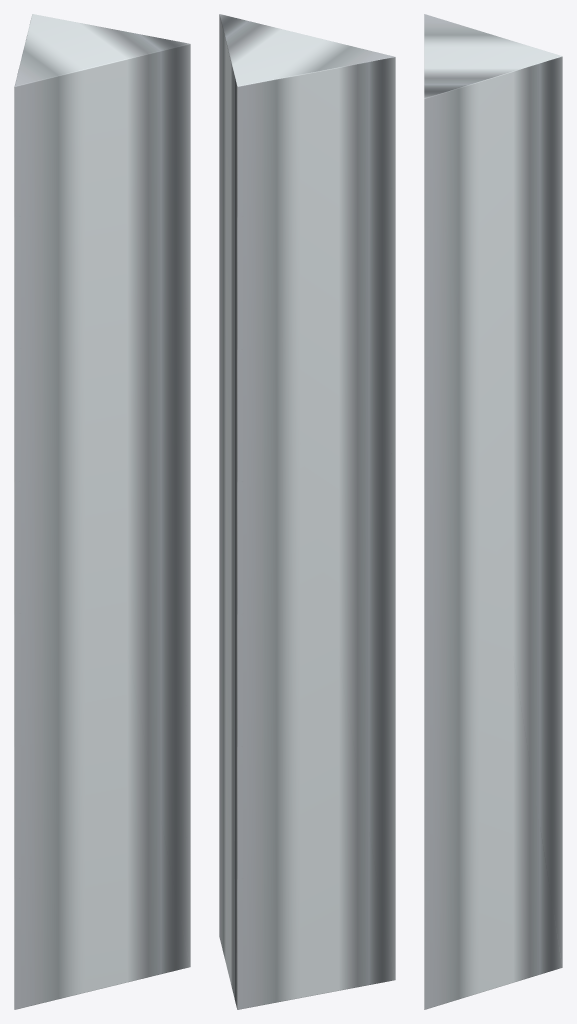
File: monolith-new.fbx
The picture shows the model from 3 angles, left to right: view 1: azimuth 30°, elevation 25°; view 2: azimuth 150°, elevation 25°; view 3: azimuth 270°, elevation 25°; orthographic projection.
Visible parts, largest first — view 1: monolith; view 2: monolith; view 3: monolith.
Boxes of the visible parts, <box> form: monolith: <box>14,14,190,1009</box>; monolith: <box>219,14,395,1009</box>; monolith: <box>424,14,562,1009</box>.
Size of the model in its own units: 599 by 3000 by 414.
1 material, 1 textured.
